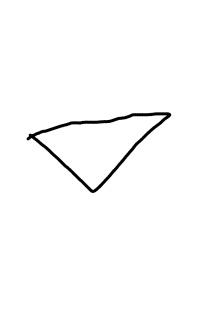Triangle: (23, 109, 174, 195)
